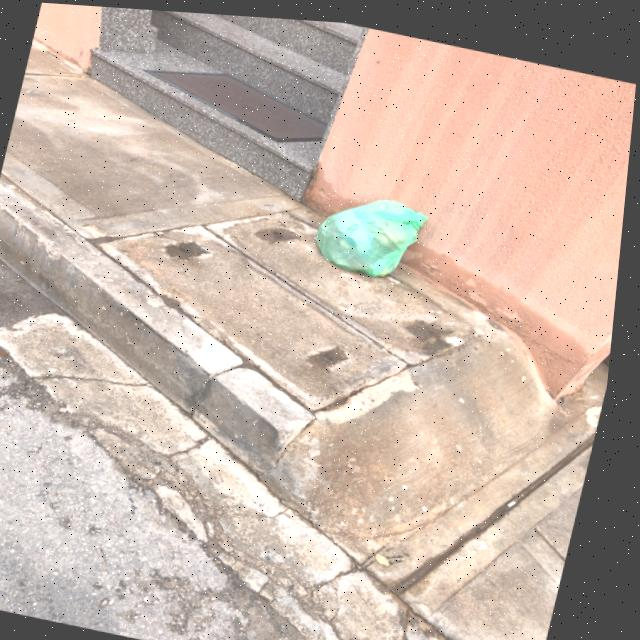Other: (314, 181, 435, 281)
